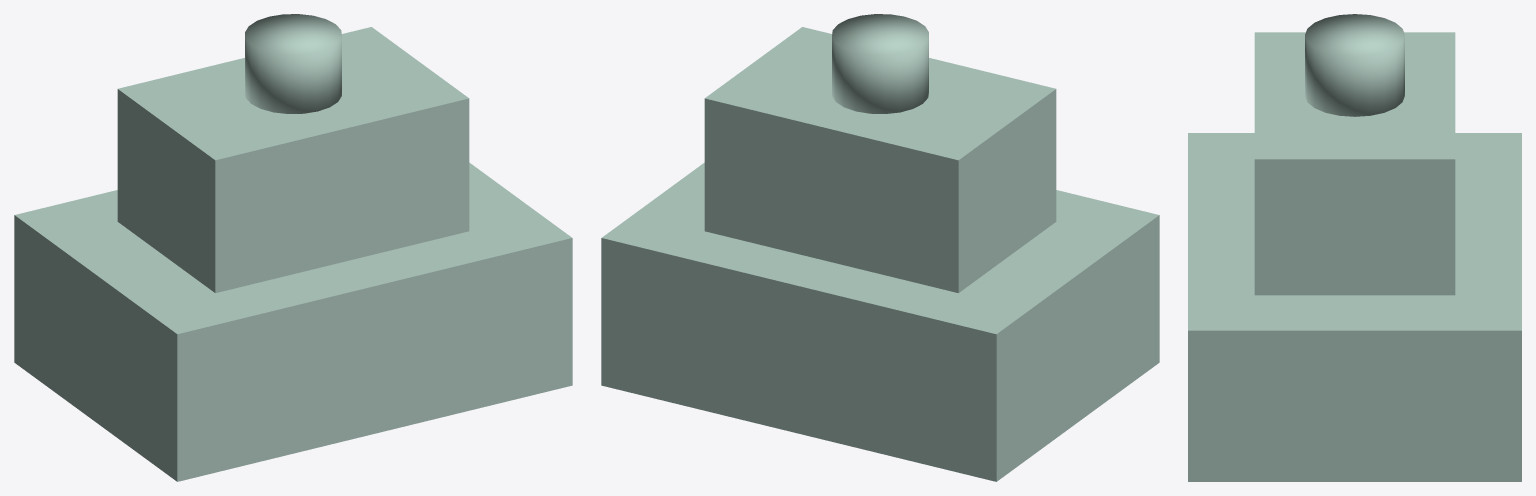
File: slide-core.glb
The picture shows the model from 3 angles, left to right: view 1: azimuth 30°, elevation 25°; view 2: azimuth 150°, elevation 25°; view 3: azimuth 270°, elevation 25°; orthographic projection. The views are drawn at different scales.
Visible parts, largest first — view 1: model-slide-core; view 2: model-slide-core; view 3: model-slide-core.
Part boxes in pixels (x1,y1,x2,y2): model-slide-core: [14, 14, 572, 481]; model-slide-core: [601, 14, 1159, 481]; model-slide-core: [1188, 14, 1521, 481].
Size of the model in its own units: 1.4 by 1.15 by 1.
